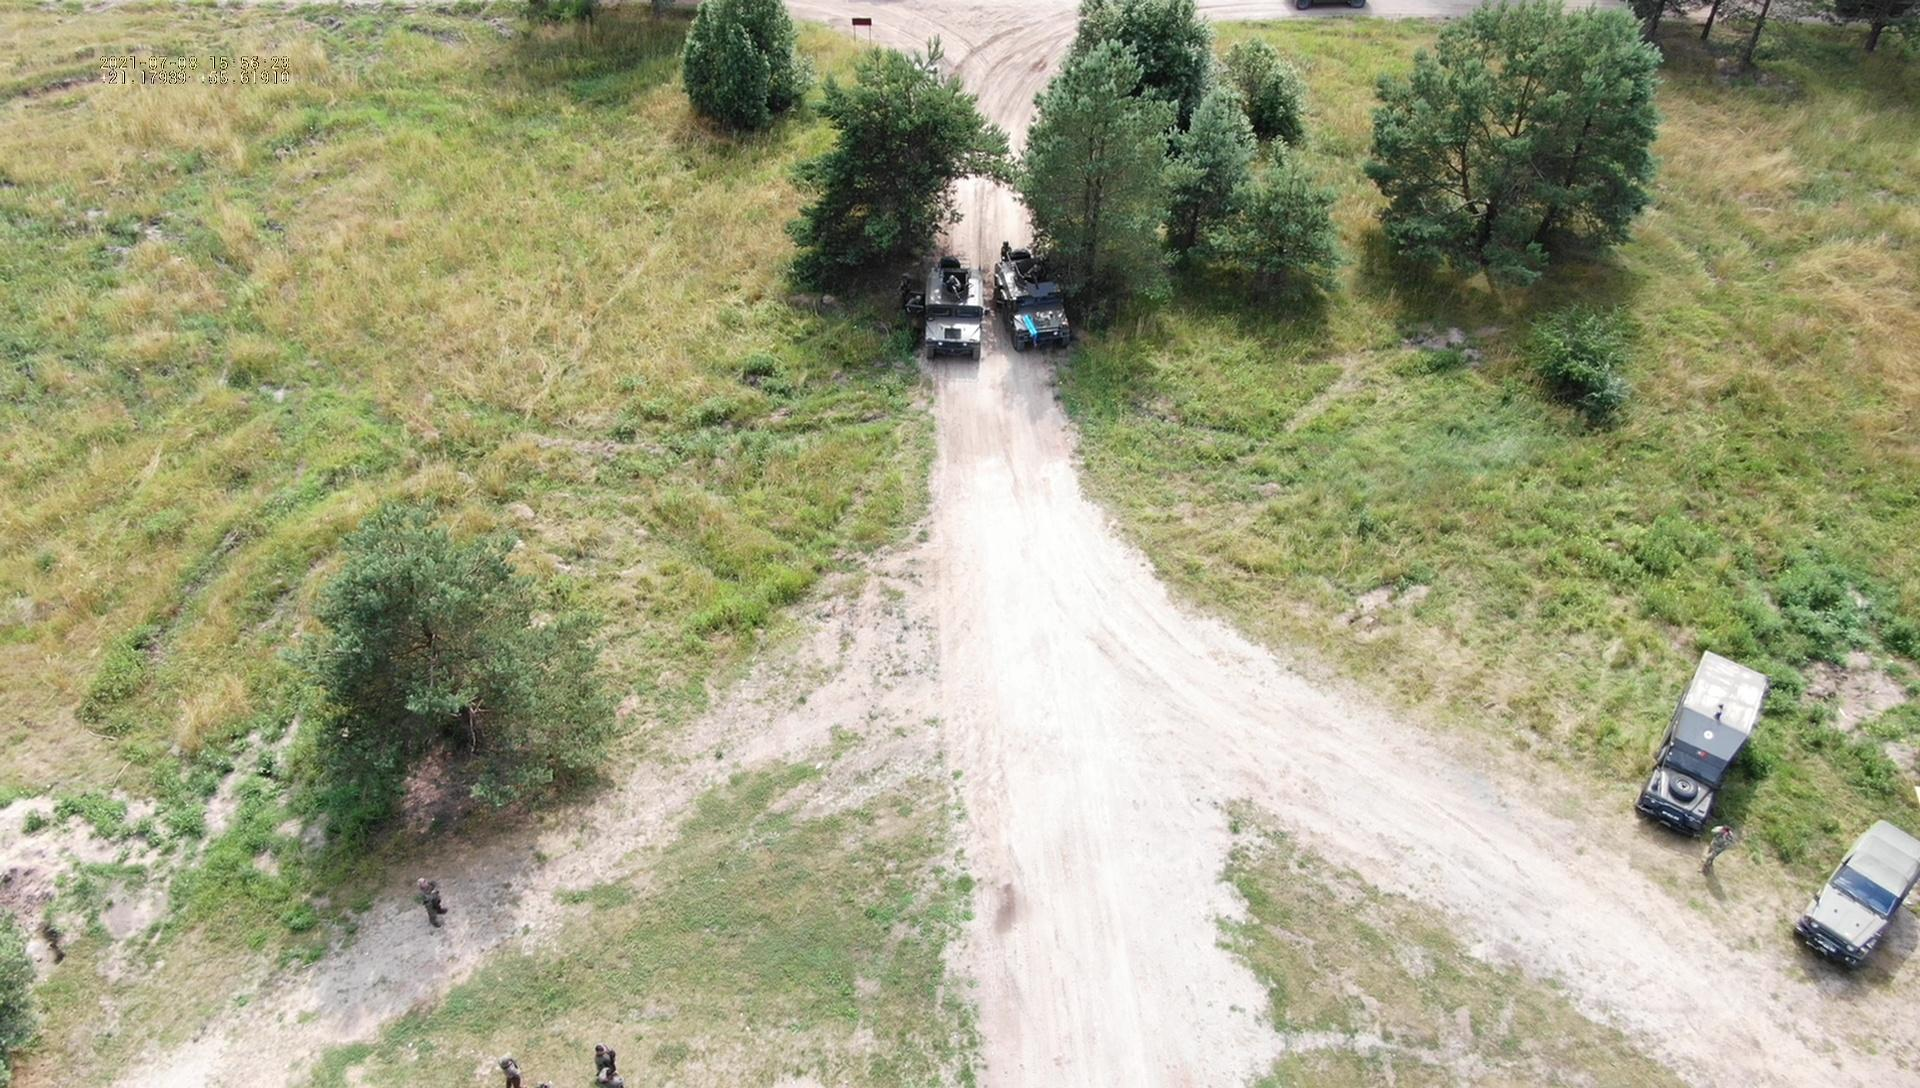Soldier: (409, 870, 458, 942), (1697, 822, 1735, 878), (945, 273, 975, 303), (1021, 261, 1046, 290)
